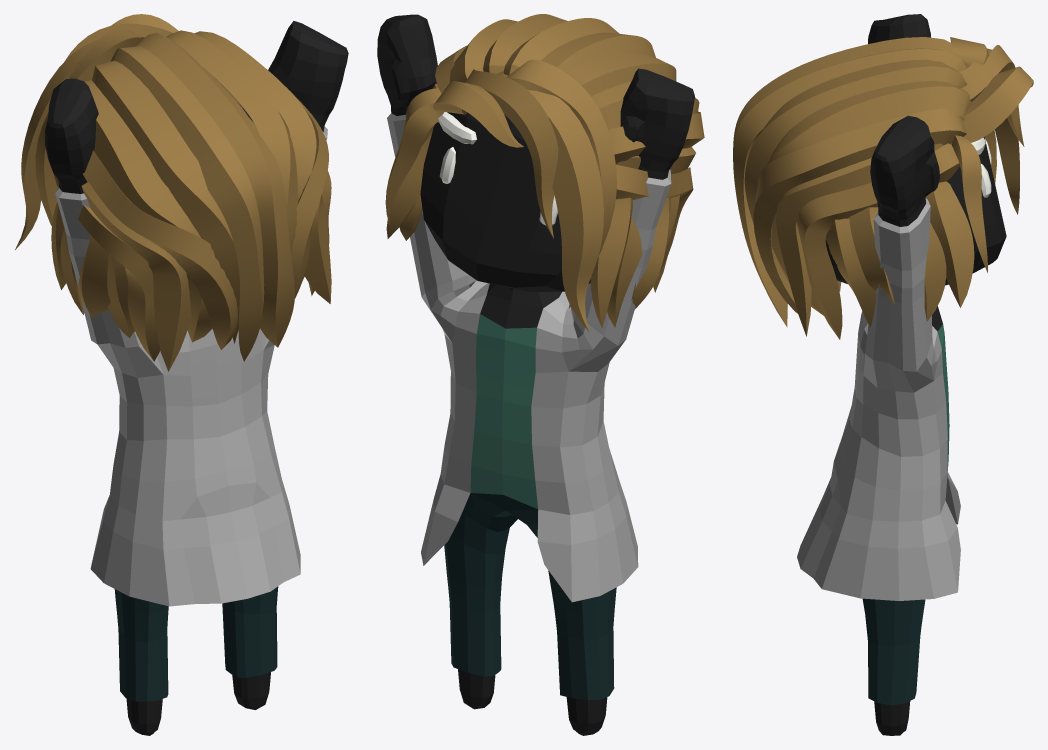
Rendered from Moun_Doctor_Female_Young_Cheer.fbx.
The picture shows the model from 3 angles, left to right: view 1: azimuth 30°, elevation 25°; view 2: azimuth 150°, elevation 25°; view 3: azimuth 270°, elevation 25°; orthographic projection. The views are drawn at different scales.
Parts seen in each view (by area): view 1: Moun_Doctor_Female_Young_Cheer; view 2: Moun_Doctor_Female_Young_Cheer; view 3: Moun_Doctor_Female_Young_Cheer.
Part boxes in pixels (left/top/right/bottom): Moun_Doctor_Female_Young_Cheer: left=15, top=14, right=348, bottom=735; Moun_Doctor_Female_Young_Cheer: left=377, top=14, right=704, bottom=735; Moun_Doctor_Female_Young_Cheer: left=733, top=14, right=1033, bottom=735.
Bounding box in the file's own units: 0.7825 × 1.68 × 0.7002.
